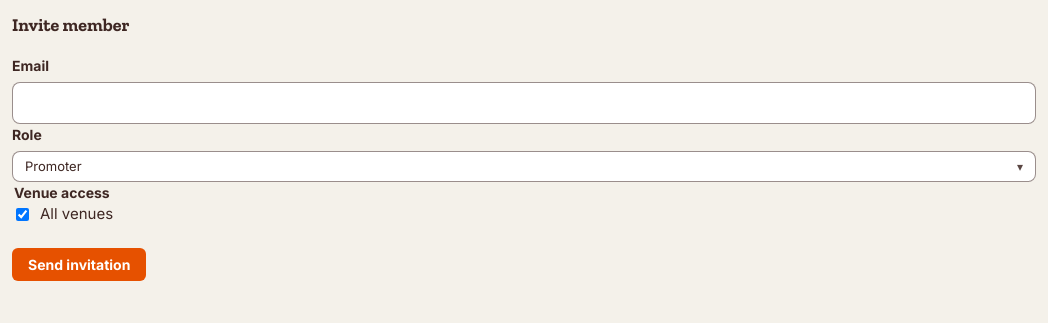
Test: InviteMemberForm › validates malformed email before submit
Type "not-an-email" into the field labelled "Email" at {"x": 524, "y": 103}, box [12,82,1036,124]
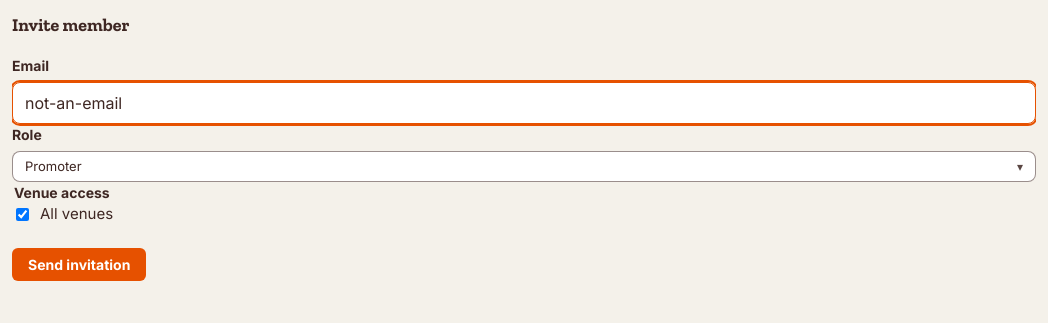
Click the button with test id "invite-member-submit" at {"x": 79, "y": 264}, box [12,248,146,280]
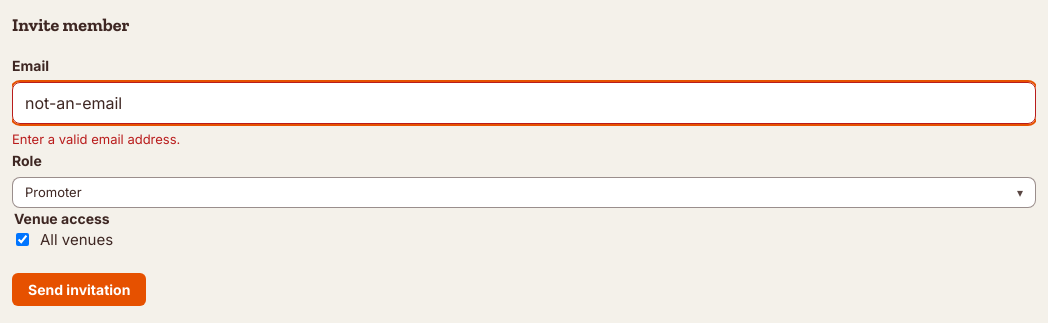
Now the text "Enter a valid email address." is shown, box [12,131,180,147]
